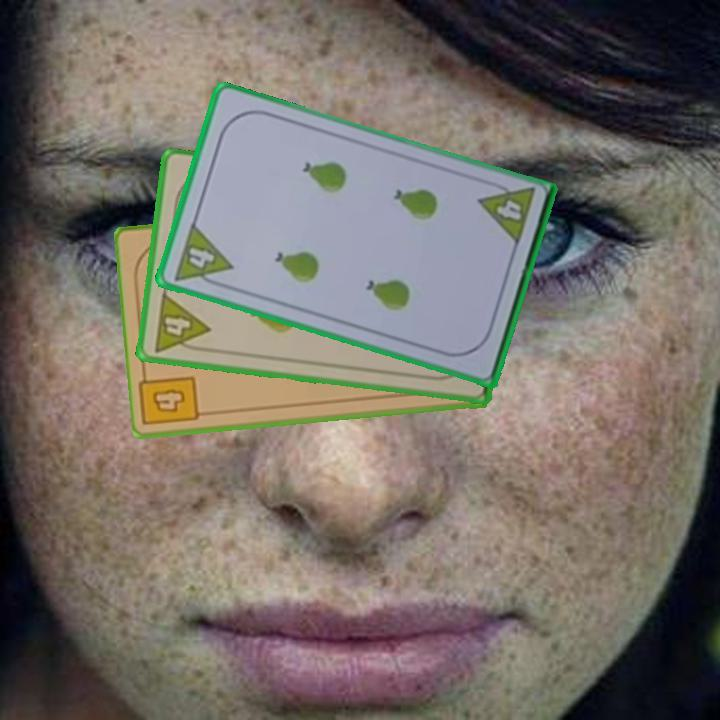4b: (148, 385, 188, 417)
4p: (170, 220, 235, 292), (475, 176, 537, 250), (150, 290, 213, 356)
